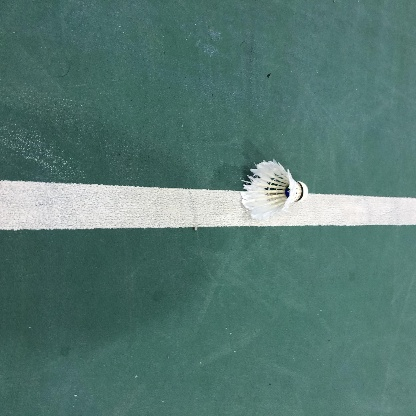ball_single: (241, 158, 309, 220)
